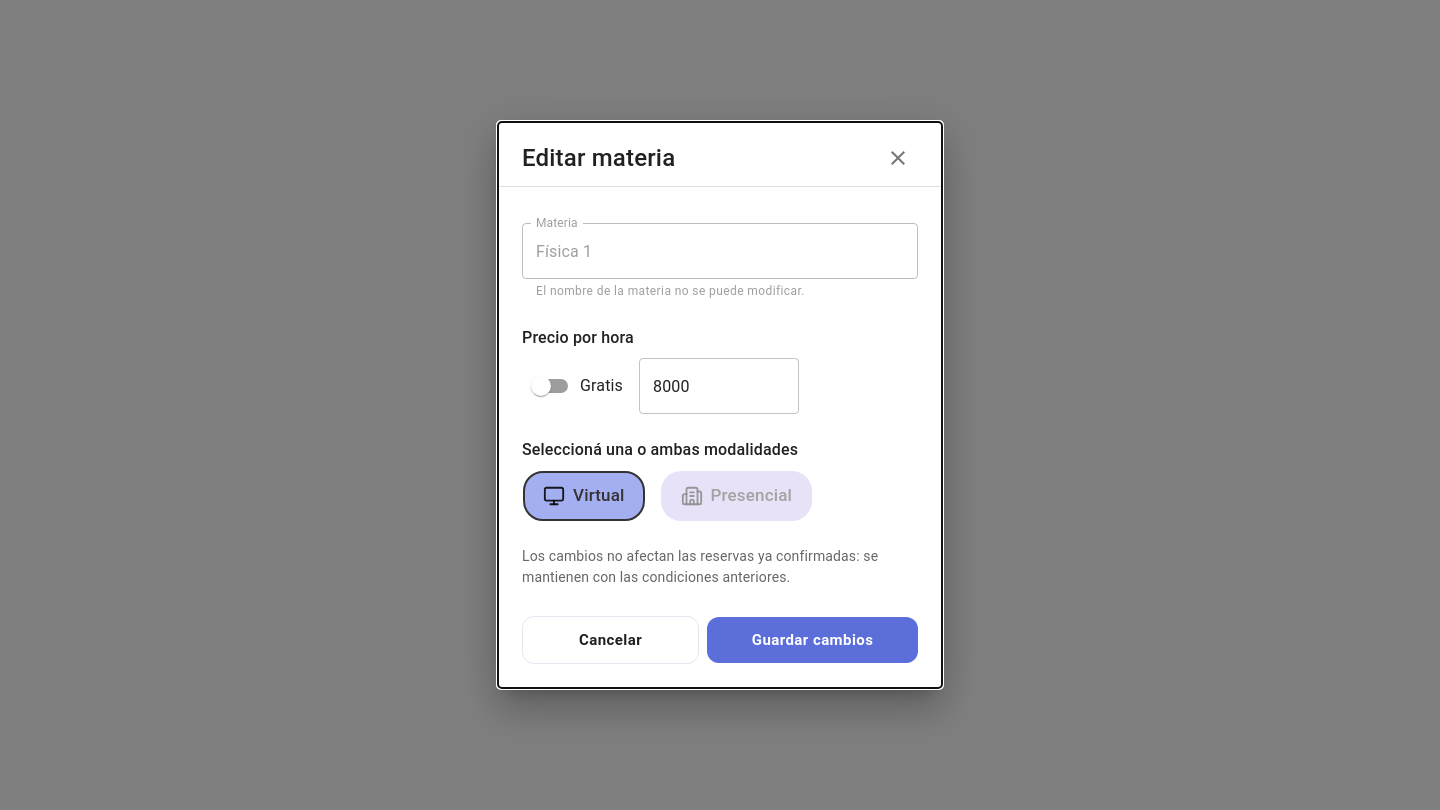
Test: EditSubjectModal › deshabilita Guardar cambios y muestra el error si el precio es cero
This screenshot has width=1440, height=810.
Clear the number field named "Precio por hora": (719, 386) [639,358,799,414]
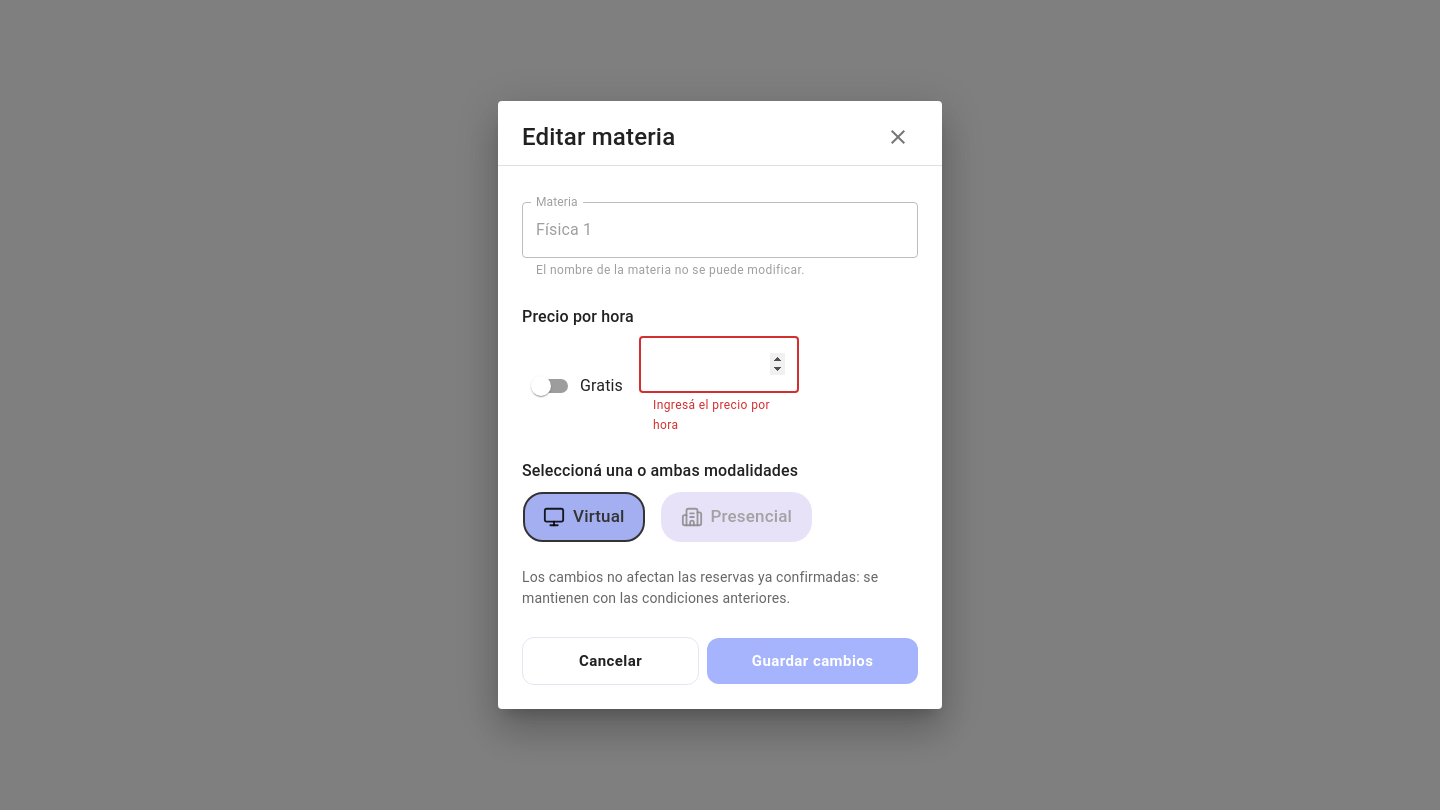
In the number field named "Precio por hora": (719, 365) [639,337,799,393], type "0"
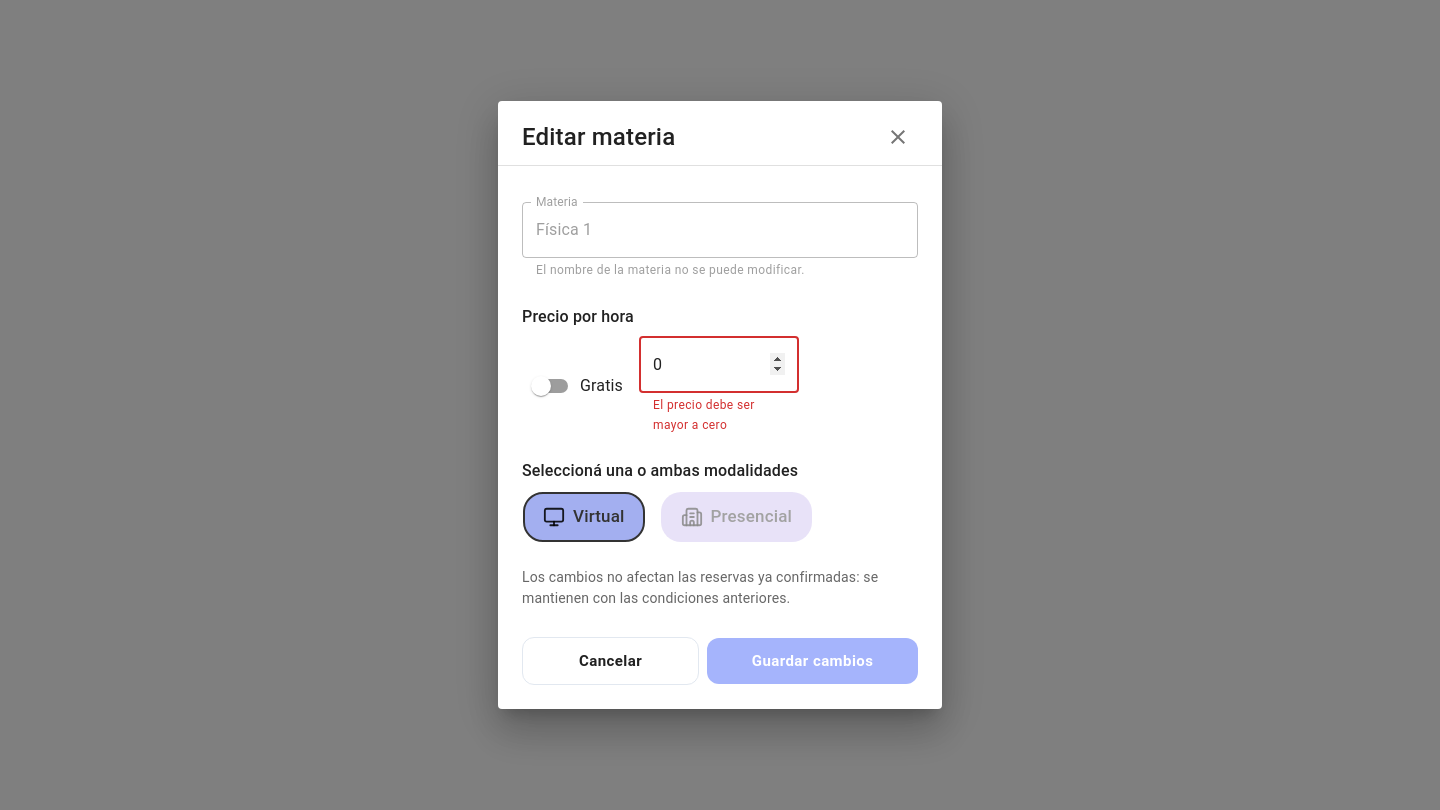
Expected: the button "Guardar cambios" is disabled, [707,638,918,684]
Expected: the text "El precio debe ser mayor a cero" is shown, [653,398,755,432]
